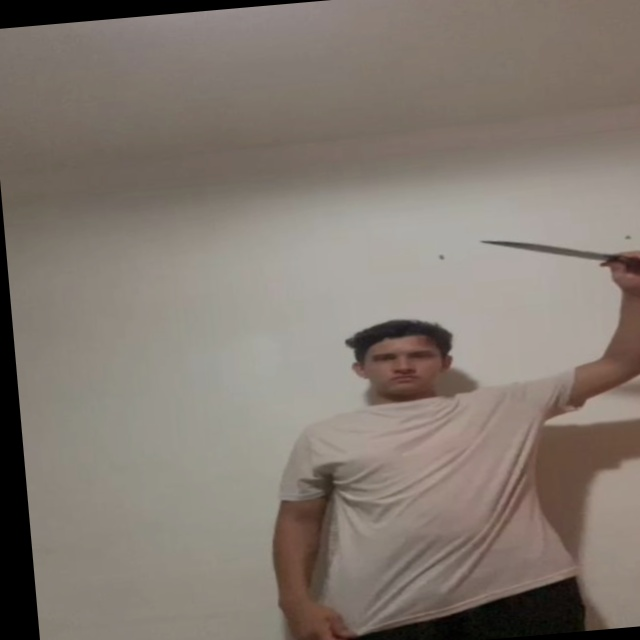Sharp-Object: (475, 229, 601, 269)
